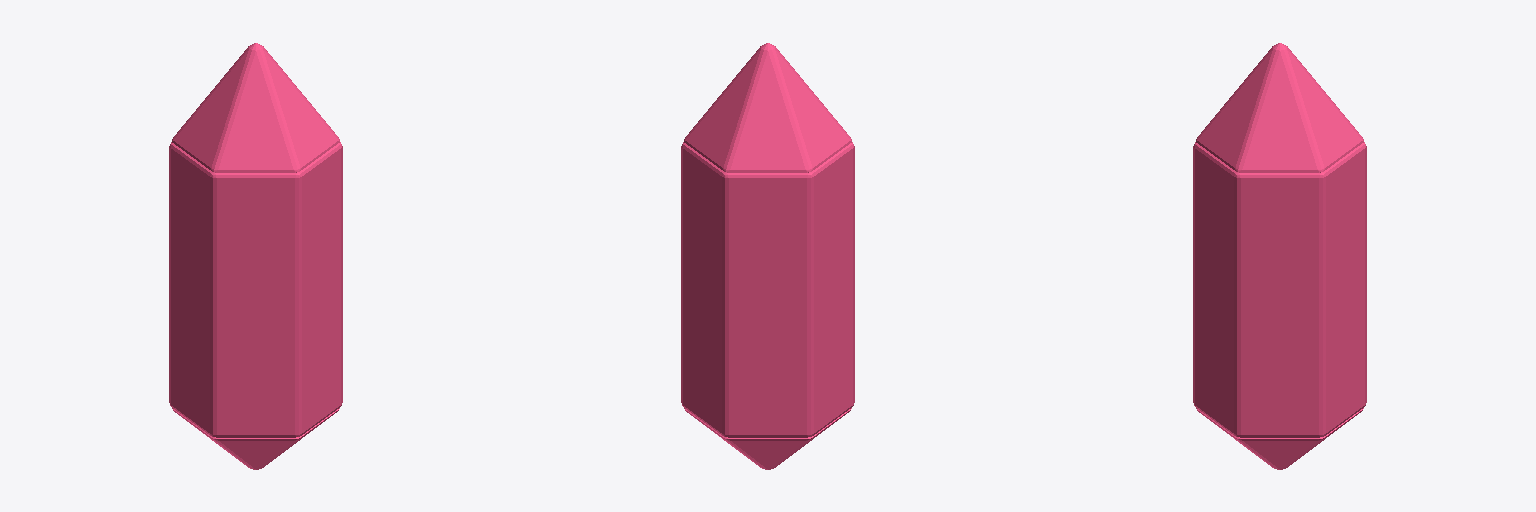
Rendered from gem_type_0.obj.
3 views of the same model, side by side, from view 1: azimuth 30°, elevation 25°; view 2: azimuth 150°, elevation 25°; view 3: azimuth 270°, elevation 25° (orthographic).
Parts seen in each view (by area): view 1: gem_type_0; view 2: gem_type_0; view 3: gem_type_0.
Part boxes in pixels (x1,y1,x2,y2): gem_type_0: (169, 43, 342, 469); gem_type_0: (681, 43, 854, 469); gem_type_0: (1193, 43, 1366, 469).
Bounding box in the file's own units: 0.5196 × 1.61 × 0.5922.